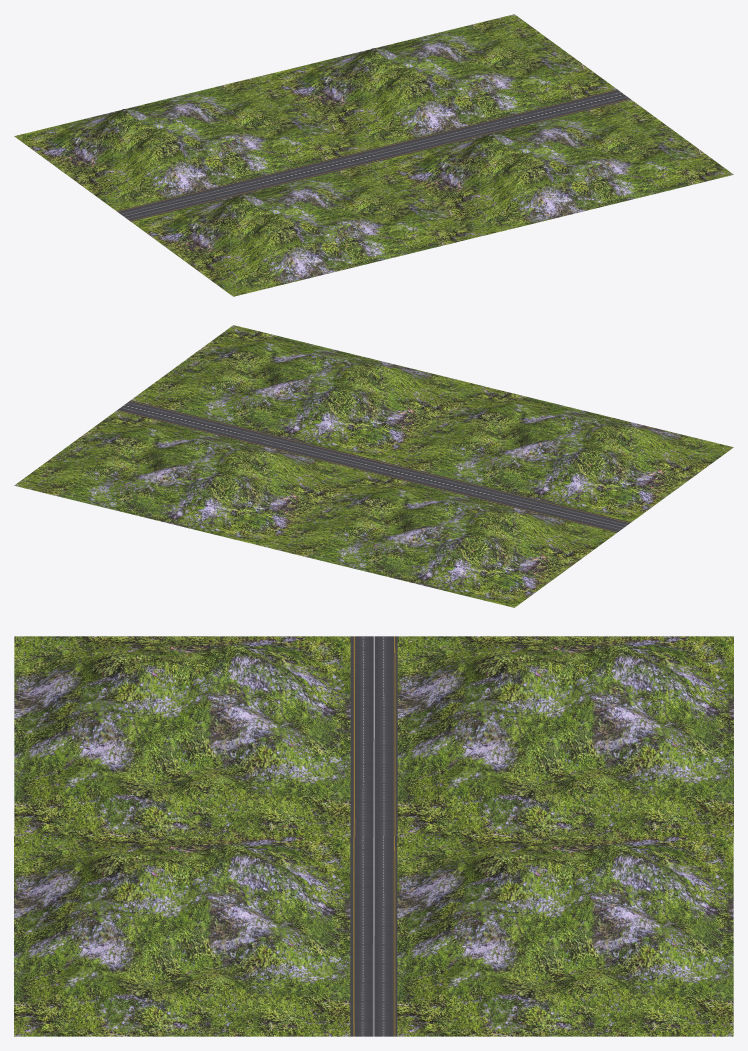
File: terrain txa.fbx
The picture shows the model from 3 angles, top to bottom: view 1: azimuth 30°, elevation 25°; view 2: azimuth 150°, elevation 25°; view 3: azimuth 270°, elevation 25°; orthographic projection. The views are drawn at different scales.
Parts seen in each view (by area): view 1: ant01.001; view 2: ant01.001; view 3: ant01.001.
Boxes of the visible parts, x1,y1,x2,y2 form: ant01.001: (14,14,733,296); ant01.001: (14,325,733,607); ant01.001: (14,636,733,1036).
Size of the model in its own units: 716 by 38.7 by 544.
Materials: 2 (2 with a texture image).
